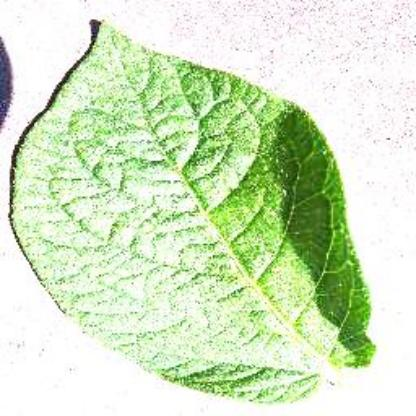Healthy-plant: (17, 24, 379, 406)
